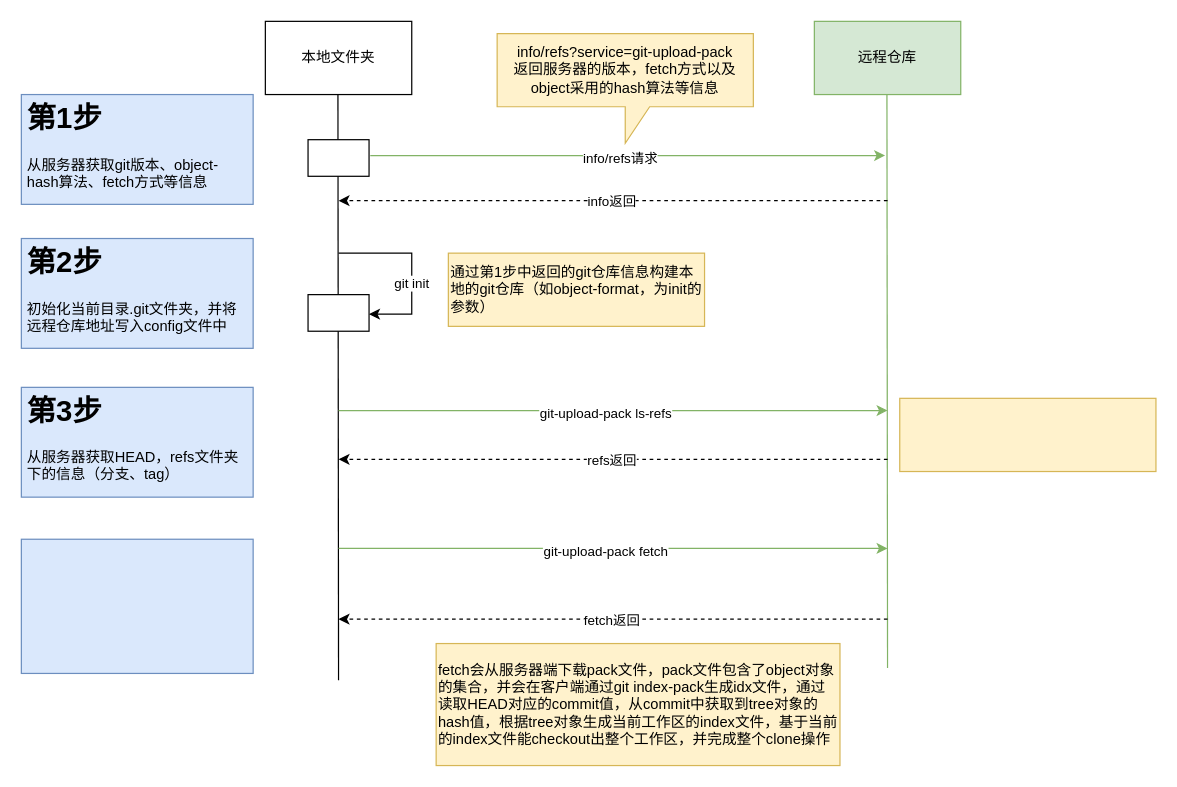
The diagram is 1177 pixels wide and 787 high, and some of its shapes have lost their labels. The shapes that lost their labels are listed below. From the top down, each one's centre as x and y in pixels, then its label:
point (338, 157): git clone
point (338, 312): .git文件
point (1027, 434): ls-refs 会返回HEAD、refs/heads/、refs/tags/等信息，包含branch以及tag相关的信息
point (136, 605): 第4步 通过第3步获取到的所有hash，从服务器fetch到object压缩数据，并在客户端完成工作区的恢复
